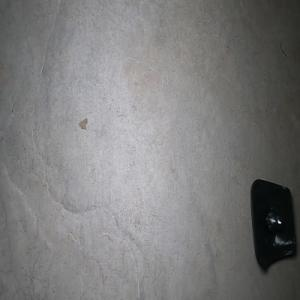LuggagePart: (249, 177, 296, 270)
